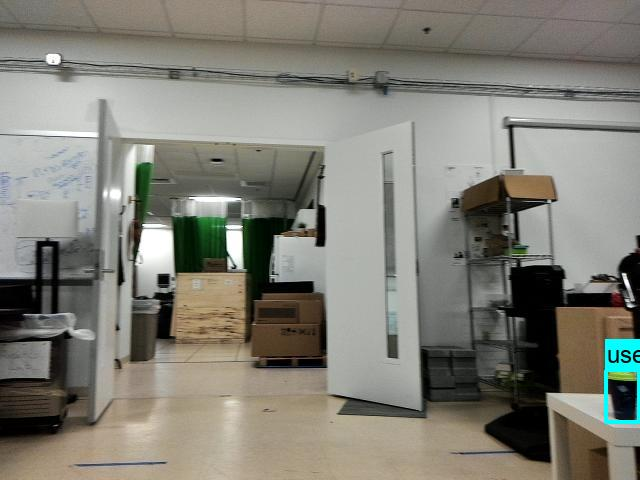useless_cup: (606, 371, 639, 419)
